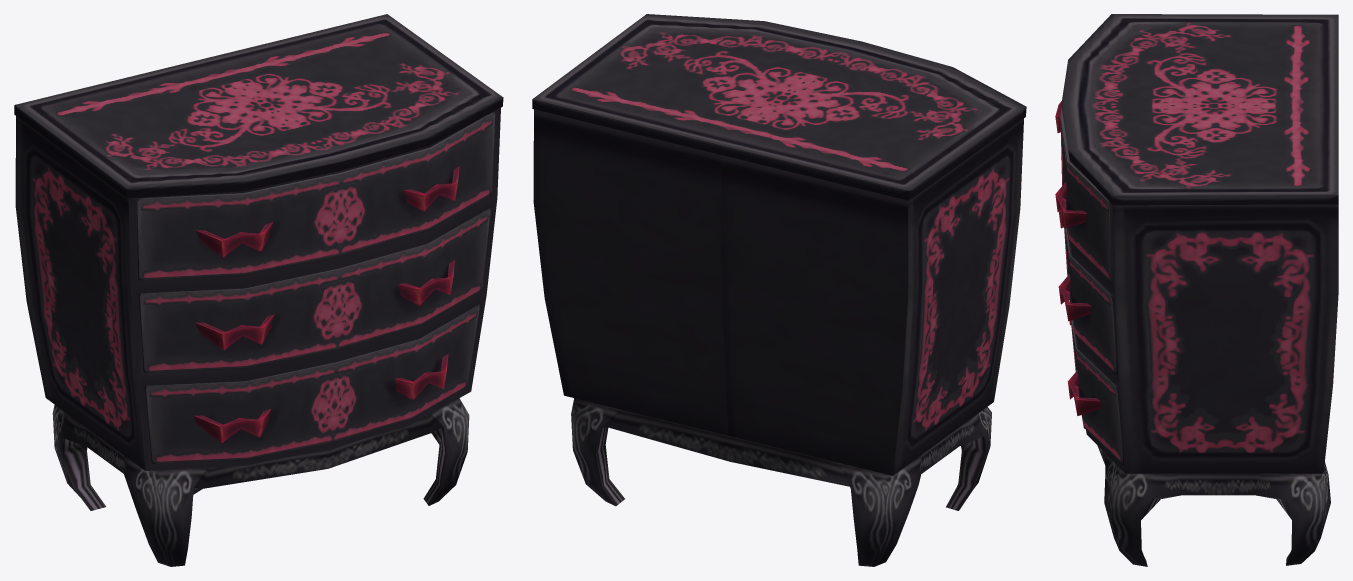
The model's file is LingerieCabinet_HD.fbx.
The picture shows the model from 3 angles, left to right: view 1: azimuth 30°, elevation 25°; view 2: azimuth 150°, elevation 25°; view 3: azimuth 270°, elevation 25°; orthographic projection. The views are drawn at different scales.
Visible parts, largest first — view 1: LingerieCabinet; view 2: LingerieCabinet; view 3: LingerieCabinet.
Part boxes in pixels (left/top/right/bottom): LingerieCabinet: left=14, top=14, right=503, bottom=566; LingerieCabinet: left=532, top=14, right=1026, bottom=566; LingerieCabinet: left=1055, top=14, right=1338, bottom=566.
Bounding box in the file's own units: 0.9702 × 0.9833 × 0.6393.
